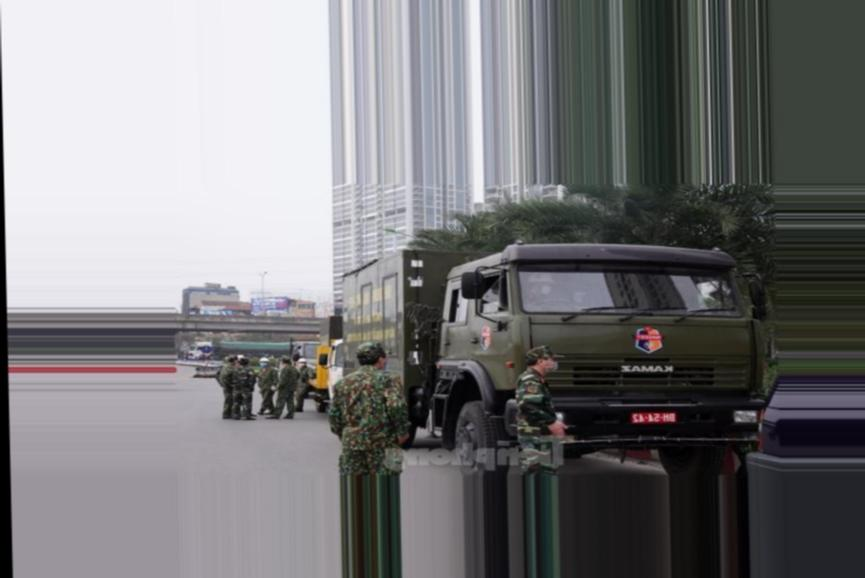License_Plate: (624, 404, 680, 429)
